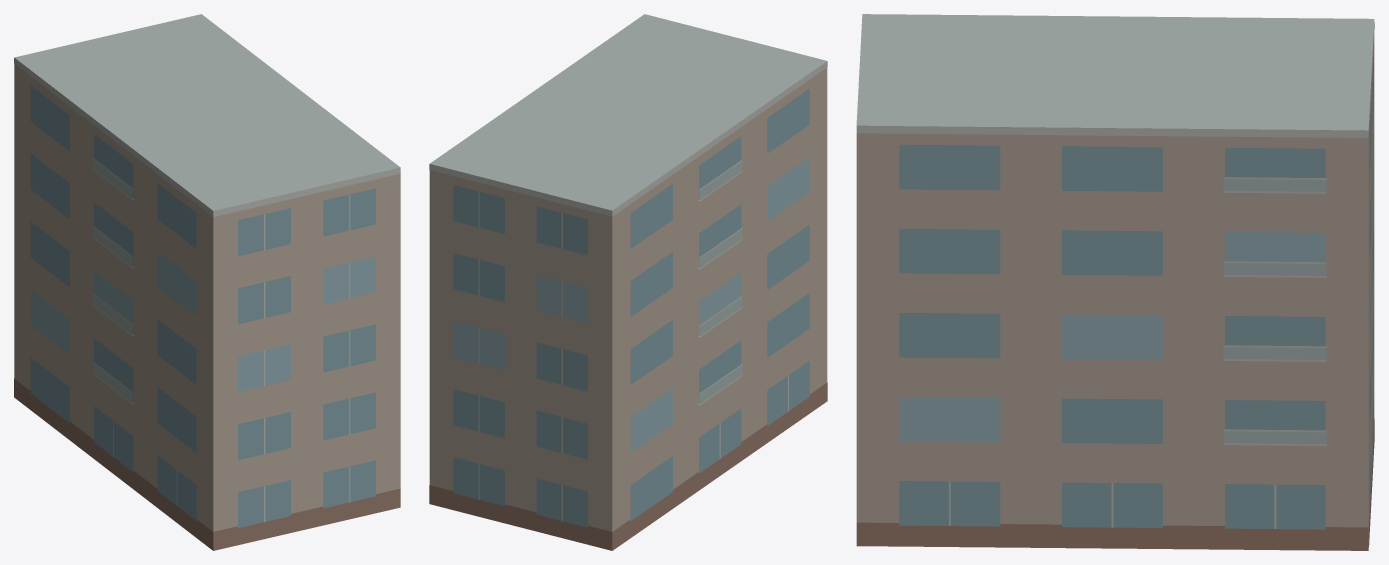
The model's file is survey-upis-32858299.glb.
3 renders of one model, left to right at view 1: azimuth 30°, elevation 25°; view 2: azimuth 150°, elevation 25°; view 3: azimuth 270°, elevation 25°, orthographic. The views are drawn at different scales.
Parts seen in each view (by area): view 1: survey-upis-32858299.tmp; view 2: survey-upis-32858299.tmp; view 3: survey-upis-32858299.tmp.
Boxes of the visible parts, x1,y1,x2,y2 form: survey-upis-32858299.tmp: (14, 14, 400, 550); survey-upis-32858299.tmp: (429, 14, 827, 550); survey-upis-32858299.tmp: (856, 14, 1374, 550).
Bounding box in the file's own units: 8.07 × 13.55 × 15.14.
